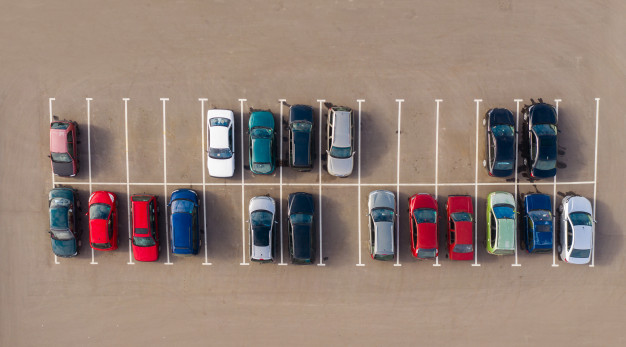car: (521, 97, 561, 181), (557, 191, 598, 268), (283, 188, 321, 267), (43, 187, 83, 259), (481, 103, 519, 178), (404, 189, 442, 263), (365, 186, 400, 265), (202, 106, 239, 180), (442, 190, 479, 264), (483, 188, 520, 261), (165, 184, 201, 259), (125, 193, 163, 264), (242, 106, 278, 178), (322, 105, 357, 178), (84, 186, 121, 255), (246, 193, 280, 265), (518, 187, 552, 255), (47, 118, 83, 181), (286, 102, 316, 173)
